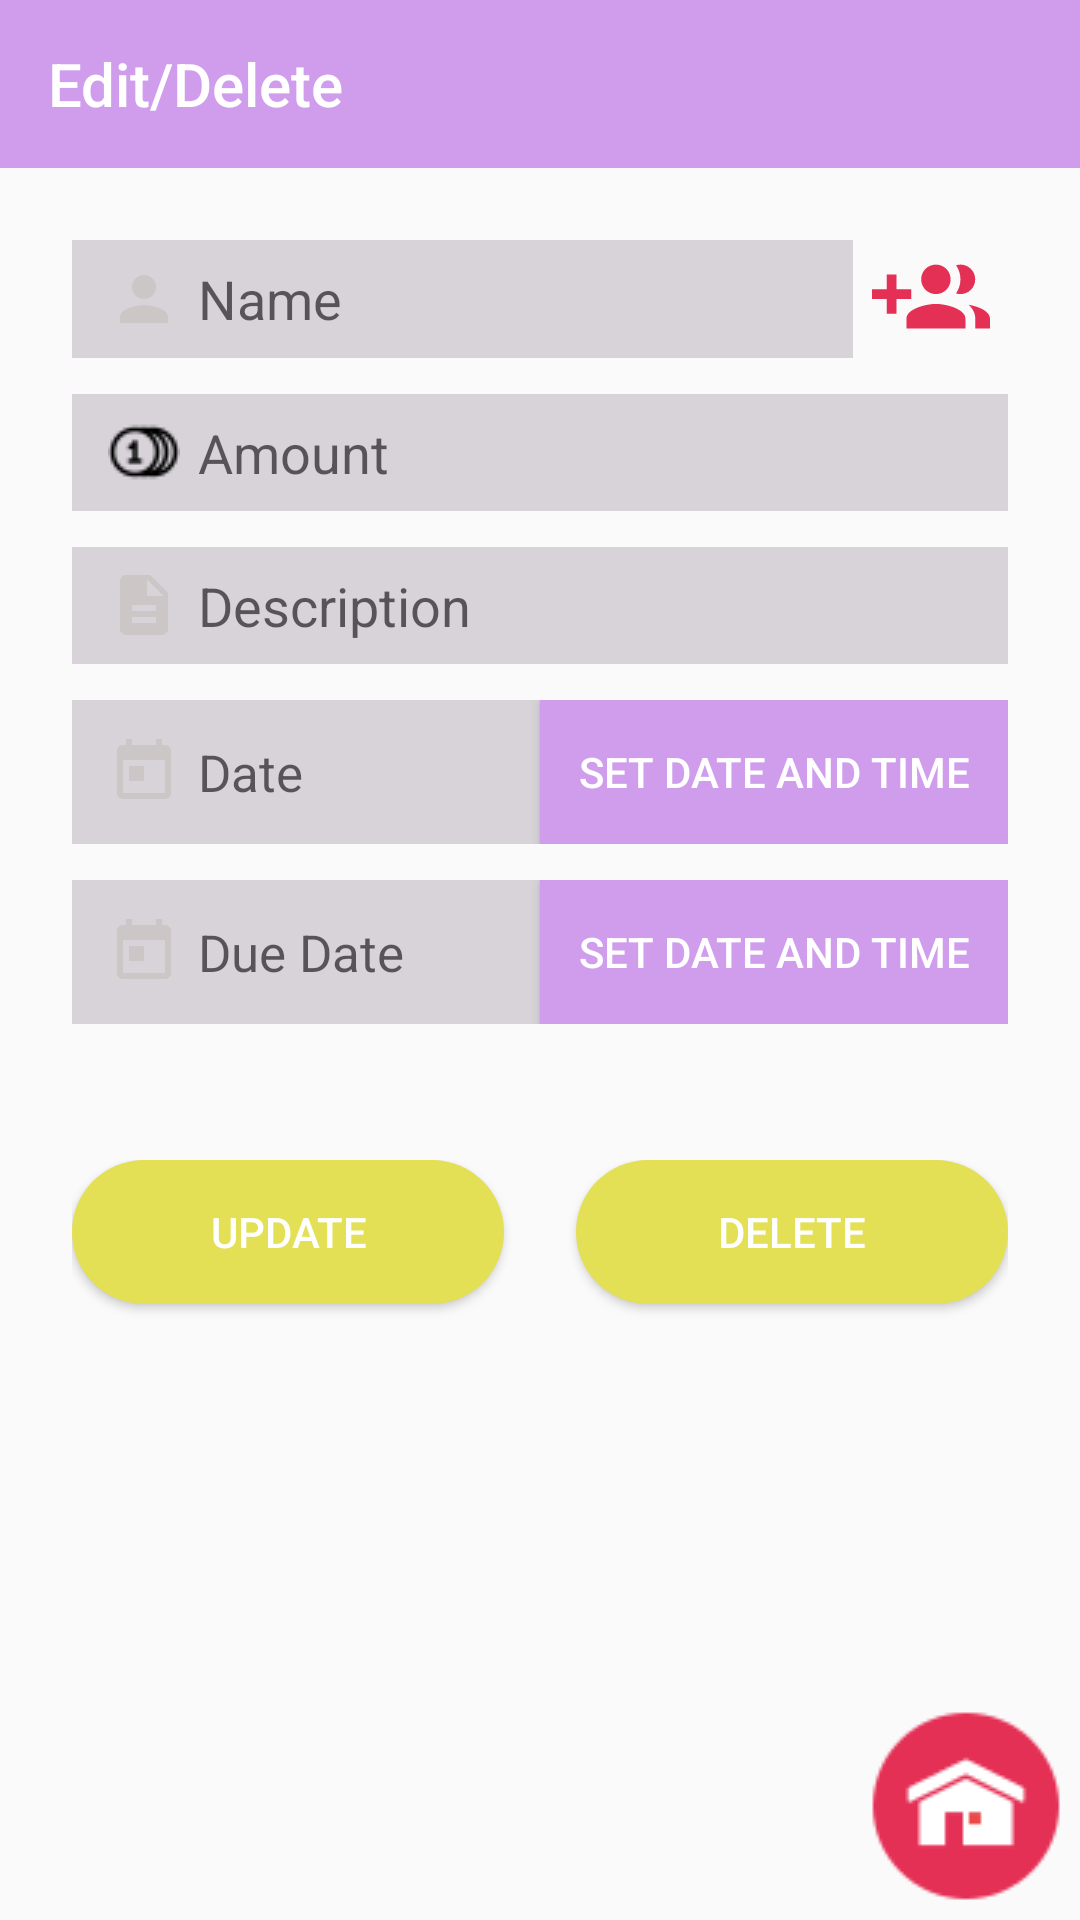

Locate icon controls on the screen. Image size 1080×1920, boxes as (x1=x1, y1=y1, x2=x2, y2=y2).
group add: (x1=872, y1=264, x2=990, y2=329)
home: (x1=872, y1=1712, x2=1060, y2=1900)
